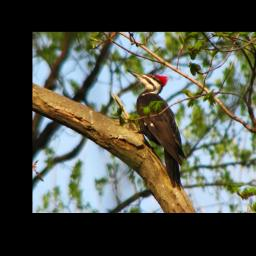Woodpecker: (123, 67, 188, 191)
